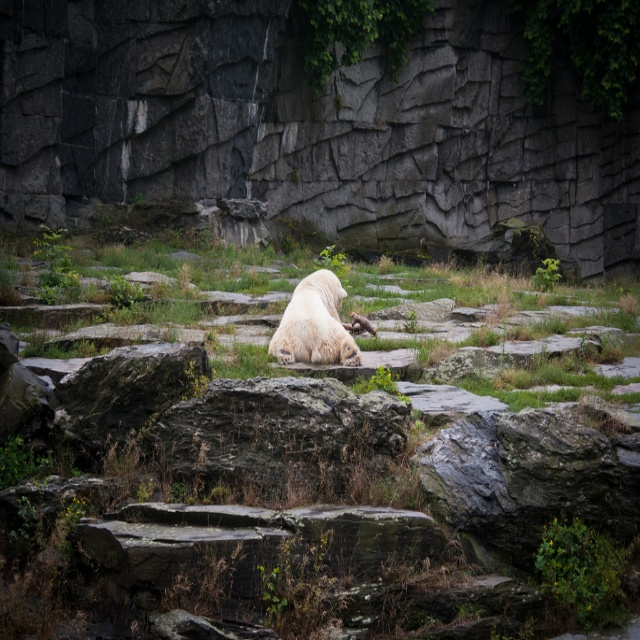Polar bear: (266, 265, 361, 362)
